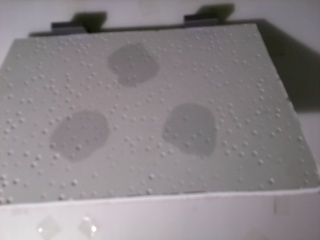Water_detected: (76, 122, 115, 165), (181, 106, 217, 151), (120, 46, 148, 84)
